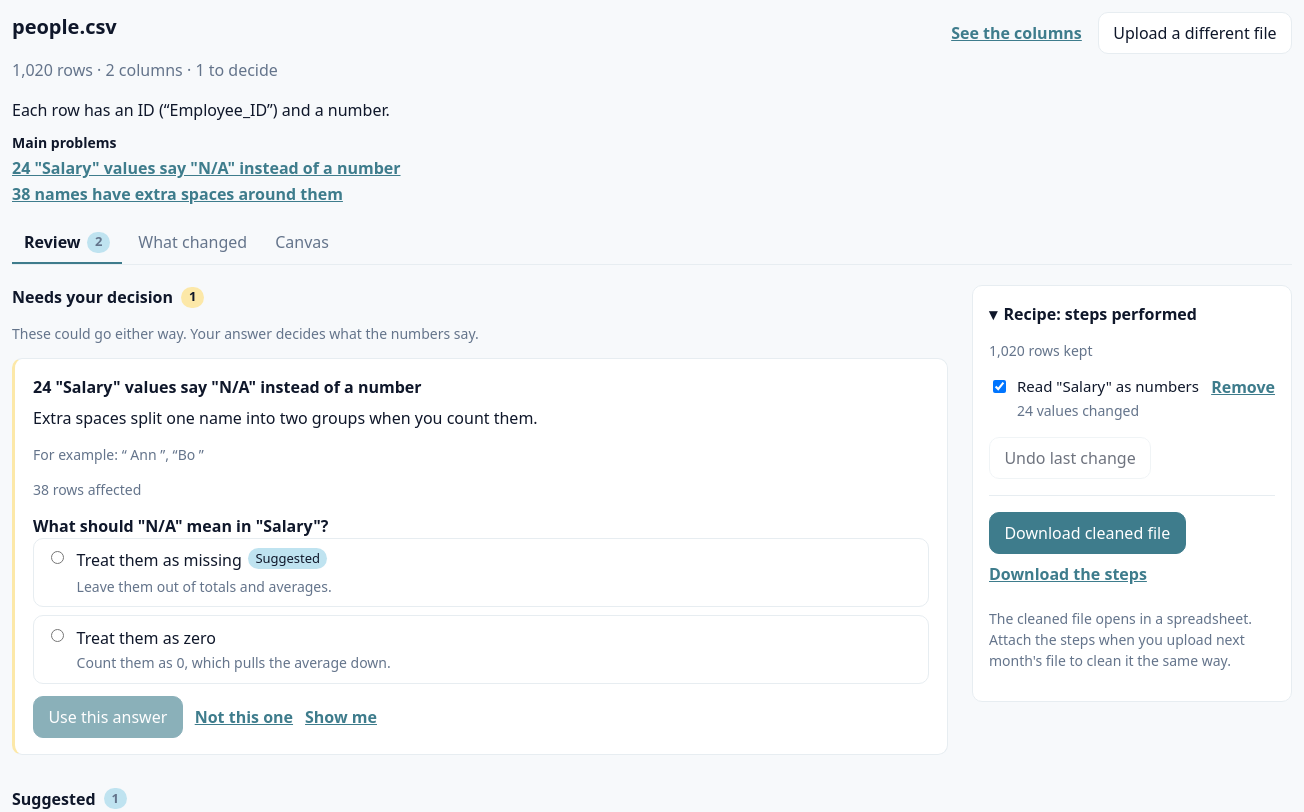
Test case: ReviewPage › only sends an answer once one is picked
Expected: the heading "Needs your decision 1" is shown, [12, 286, 204, 308]
Expected: the button "Use this answer" is disabled, [33, 696, 183, 738]
Click the radio button labelled "Treat them as zero". click: (58,635)
box: [51, 629, 64, 642]
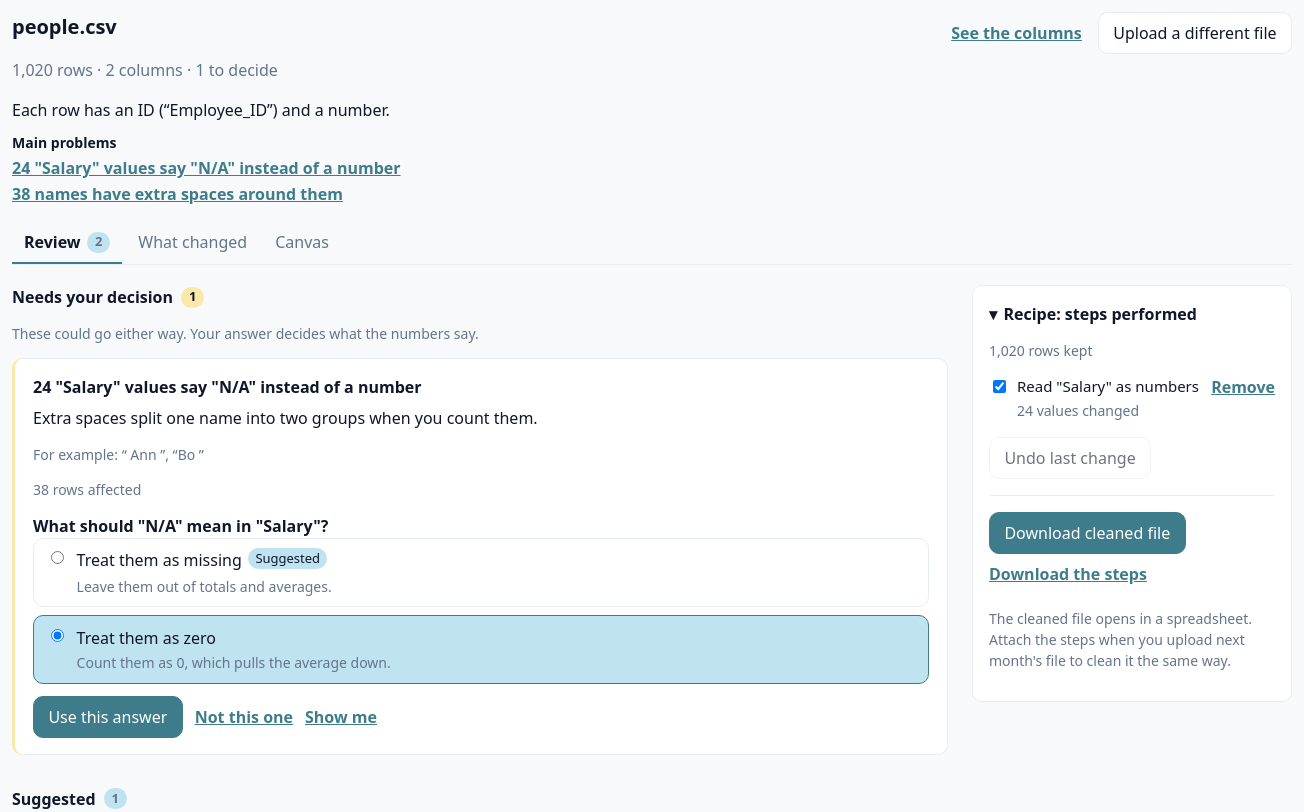
Expected: the button "Use this answer" is enabled, [33, 696, 183, 738]
